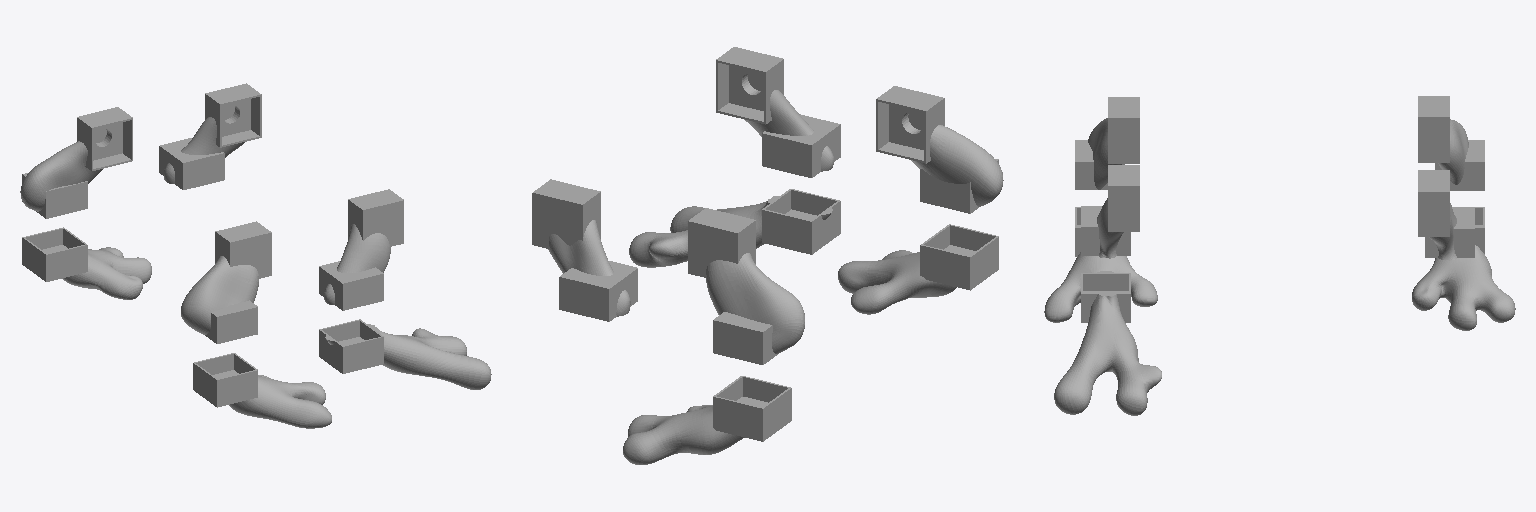
The robot description file, URDF, robot "FrogBot3_top-FrogBot3-y-0_bottom-FrogBot3-y-0":
<?xml version="1.0" ?>
<robot name="FrogBot3_top-FrogBot3-y-0_bottom-FrogBot3-y-0">

<material name="pla_5_percent_infill">
  <color rgba="0.700 0.700 0.700 1.000"/>
</material>

<link name="base_link">
  <inertial>
    <origin xyz="0 0 0" rpy="0 0 0"/>
    <mass value="1.5419899792307459"/>
    <inertia ixx="0.0054836076661745285" iyy="0.013703915460827342" izz="0.013742849788882953" ixy="5.961000823851627e-05" iyz="4.9944941207841843e-05" ixz="-0.0023657822822012154"/>
  </inertial>
  <visual>
    <origin xyz="0 0 0" rpy="0 0 0"/>
    <geometry>
      <mesh filename="simple_meshes/base_link.stl" scale="0.001 0.001 0.001"/>
    </geometry>
    <material name="pla_5_percent_infill"/>
  </visual>
  <collision>
    <origin xyz="0 0 0" rpy="0 0 0"/>
    <geometry>
      <mesh filename="simple_meshes/base_link.stl" scale="0.001 0.001 0.001"/>
    </geometry>
  </collision>
</link>

<link name="body_1_0_1">
  <inertial>
    <origin xyz="-0.065859 -0.113451 -0.001976" rpy="0 0 0"/>
    <mass value="0.03481210358836743"/>
    <inertia ixx="2.234723602697415e-05" iyy="3.6484254333627657e-05" izz="2.383058621994842e-05" ixy="2.6691672408313293e-06" iyz="2.465478568163421e-06" ixz="-1.0909064282904019e-05"/>
  </inertial>
  <visual>
    <origin xyz="-0.065859 -0.113451 -0.001976" rpy="0 0 0"/>
    <geometry>
      <mesh filename="simple_meshes/body_1_0_1.stl" scale="0.001 0.001 0.001"/>
    </geometry>
    <material name="pla_5_percent_infill"/>
  </visual>
  <collision>
    <origin xyz="-0.065859 -0.113451 -0.001976" rpy="0 0 0"/>
    <geometry>
      <mesh filename="simple_meshes/body_1_0_1.stl" scale="0.001 0.001 0.001"/>
    </geometry>
  </collision>
</link>

<link name="body_1_1_1">
  <inertial>
    <origin xyz="0.083929 -0.113451 -0.010696" rpy="0 0 0"/>
    <mass value="0.05168946143503558"/>
    <inertia ixx="3.3422674352278194e-05" iyy="6.498258946108346e-05" izz="4.677073796685409e-05" ixy="5.7564790331805175e-06" iyz="6.816011222987367e-06" ixz="-1.932469944822687e-05"/>
  </inertial>
  <visual>
    <origin xyz="0.083929 -0.113451 -0.010696" rpy="0 0 0"/>
    <geometry>
      <mesh filename="simple_meshes/body_1_1_1.stl" scale="0.001 0.001 0.001"/>
    </geometry>
    <material name="pla_5_percent_infill"/>
  </visual>
  <collision>
    <origin xyz="0.083929 -0.113451 -0.010696" rpy="0 0 0"/>
    <geometry>
      <mesh filename="simple_meshes/body_1_1_1.stl" scale="0.001 0.001 0.001"/>
    </geometry>
  </collision>
</link>

<link name="body_1_2_1">
  <inertial>
    <origin xyz="-0.060736 0.113451 -0.005366" rpy="0 0 0"/>
    <mass value="0.036808537610259116"/>
    <inertia ixx="2.510262141484855e-05" iyy="3.8597145432828916e-05" izz="2.4079621612448565e-05" ixy="-3.0640182412245537e-06" iyz="-3.7103297664395276e-06" ixz="-1.1646059100123392e-05"/>
  </inertial>
  <visual>
    <origin xyz="-0.060736 0.113451 -0.005366" rpy="0 0 0"/>
    <geometry>
      <mesh filename="simple_meshes/body_1_2_1.stl" scale="0.001 0.001 0.001"/>
    </geometry>
    <material name="pla_5_percent_infill"/>
  </visual>
  <collision>
    <origin xyz="-0.060736 0.113451 -0.005366" rpy="0 0 0"/>
    <geometry>
      <mesh filename="simple_meshes/body_1_2_1.stl" scale="0.001 0.001 0.001"/>
    </geometry>
  </collision>
</link>

<link name="body_1_3_1">
  <inertial>
    <origin xyz="0.093982 0.113451 -0.005431" rpy="0 0 0"/>
    <mass value="0.05072982004556852"/>
    <inertia ixx="2.9846049046357293e-05" iyy="5.400651795612981e-05" izz="3.9655979153227234e-05" ixy="-4.016612700297314e-06" iyz="-5.751694455235362e-06" ixz="-1.3946299575984413e-05"/>
  </inertial>
  <visual>
    <origin xyz="0.093982 0.113451 -0.005431" rpy="0 0 0"/>
    <geometry>
      <mesh filename="simple_meshes/body_1_3_1.stl" scale="0.001 0.001 0.001"/>
    </geometry>
    <material name="pla_5_percent_infill"/>
  </visual>
  <collision>
    <origin xyz="0.093982 0.113451 -0.005431" rpy="0 0 0"/>
    <geometry>
      <mesh filename="simple_meshes/body_1_3_1.stl" scale="0.001 0.001 0.001"/>
    </geometry>
  </collision>
</link>

<link name="body_2_0_1">
  <inertial>
    <origin xyz="-0.026166 -0.163707 0.082895" rpy="0 0 0"/>
    <mass value="0.07861579585624945"/>
    <inertia ixx="5.690804317683715e-05" iyy="0.00017167854267405346" izz="0.00018668273466018867" ixy="4.5101196067013835e-06" iyz="-2.5561902414611686e-06" ixz="4.731127778390002e-05"/>
  </inertial>
  <visual>
    <origin xyz="-0.026166 -0.163707 0.082895" rpy="0 0 0"/>
    <geometry>
      <mesh filename="simple_meshes/body_2_0_1.stl" scale="0.001 0.001 0.001"/>
    </geometry>
    <material name="pla_5_percent_infill"/>
  </visual>
  <collision>
    <origin xyz="-0.026166 -0.163707 0.082895" rpy="0 0 0"/>
    <geometry>
      <mesh filename="simple_meshes/body_2_0_1.stl" scale="0.001 0.001 0.001"/>
    </geometry>
  </collision>
</link>

<link name="body_2_1_1">
  <inertial>
    <origin xyz="0.127747 -0.173737 0.082895" rpy="0 0 0"/>
    <mass value="0.06819028038756199"/>
    <inertia ixx="3.9763277259106684e-05" iyy="8.219825476943701e-05" izz="9.423796381057047e-05" ixy="-8.378850528368295e-06" iyz="2.1393524929054844e-06" ixz="2.3641450377536832e-05"/>
  </inertial>
  <visual>
    <origin xyz="0.127747 -0.173737 0.082895" rpy="0 0 0"/>
    <geometry>
      <mesh filename="simple_meshes/body_2_1_1.stl" scale="0.001 0.001 0.001"/>
    </geometry>
    <material name="pla_5_percent_infill"/>
  </visual>
  <collision>
    <origin xyz="0.127747 -0.173737 0.082895" rpy="0 0 0"/>
    <geometry>
      <mesh filename="simple_meshes/body_2_1_1.stl" scale="0.001 0.001 0.001"/>
    </geometry>
  </collision>
</link>

<link name="body_2_2_1">
  <inertial>
    <origin xyz="-0.021708 0.166525 0.082895" rpy="0 0 0"/>
    <mass value="0.0786648198760425"/>
    <inertia ixx="5.6312853208418615e-05" iyy="0.00016771066573841161" izz="0.00018258887505992732" ixy="1.178071111930263e-06" iyz="-1.0767943892512396e-06" ixz="4.612384517828144e-05"/>
  </inertial>
  <visual>
    <origin xyz="-0.021708 0.166525 0.082895" rpy="0 0 0"/>
    <geometry>
      <mesh filename="simple_meshes/body_2_2_1.stl" scale="0.001 0.001 0.001"/>
    </geometry>
    <material name="pla_5_percent_infill"/>
  </visual>
  <collision>
    <origin xyz="-0.021708 0.166525 0.082895" rpy="0 0 0"/>
    <geometry>
      <mesh filename="simple_meshes/body_2_2_1.stl" scale="0.001 0.001 0.001"/>
    </geometry>
  </collision>
</link>

<link name="body_2_3_1">
  <inertial>
    <origin xyz="0.128136 0.171985 0.082895" rpy="0 0 0"/>
    <mass value="0.06598864943063291"/>
    <inertia ixx="4.236894932505182e-05" iyy="7.782240010849426e-05" izz="9.408845542421135e-05" ixy="6.614906439177896e-06" iyz="-3.3620902689663733e-06" ixz="2.172744337190411e-05"/>
  </inertial>
  <visual>
    <origin xyz="0.128136 0.171985 0.082895" rpy="0 0 0"/>
    <geometry>
      <mesh filename="simple_meshes/body_2_3_1.stl" scale="0.001 0.001 0.001"/>
    </geometry>
    <material name="pla_5_percent_infill"/>
  </visual>
  <collision>
    <origin xyz="0.128136 0.171985 0.082895" rpy="0 0 0"/>
    <geometry>
      <mesh filename="simple_meshes/body_2_3_1.stl" scale="0.001 0.001 0.001"/>
    </geometry>
  </collision>
</link>

<joint name="joint_1_0" type="revolute">
  <origin xyz="0.065859 0.113451 0.001976" rpy="0 0 0"/>
  <parent link="base_link"/>
  <child link="body_1_0_1"/>
  <axis xyz="0.0 0.0 -1.0"/>
  <limit upper="1.2" lower="-1.2" effort="3.8" velocity="5.4"/>
</joint>
<transmission name="joint_1_0_tran">
  <type>transmission_interface/SimpleTransmission</type>
  <joint name="joint_1_0">
    <hardwareInterface>PositionJointInterface</hardwareInterface>
  </joint>
  <actuator name="joint_1_0_actr">
    <hardwareInterface>PositionJointInterface</hardwareInterface>
    <mechanicalReduction>1</mechanicalReduction>
  </actuator>
</transmission>

<joint name="joint_1_1" type="revolute">
  <origin xyz="-0.083929 0.113451 0.010696" rpy="0 0 0"/>
  <parent link="base_link"/>
  <child link="body_1_1_1"/>
  <axis xyz="0.0 0.0 -1.0"/>
  <limit upper="1.2" lower="-1.2" effort="3.8" velocity="5.4"/>
</joint>
<transmission name="joint_1_1_tran">
  <type>transmission_interface/SimpleTransmission</type>
  <joint name="joint_1_1">
    <hardwareInterface>PositionJointInterface</hardwareInterface>
  </joint>
  <actuator name="joint_1_1_actr">
    <hardwareInterface>PositionJointInterface</hardwareInterface>
    <mechanicalReduction>1</mechanicalReduction>
  </actuator>
</transmission>

<joint name="joint_1_2" type="revolute">
  <origin xyz="0.060736 -0.113451 0.005366" rpy="0 0 0"/>
  <parent link="base_link"/>
  <child link="body_1_2_1"/>
  <axis xyz="0.0 0.0 -1.0"/>
  <limit upper="1.2" lower="-1.2" effort="3.8" velocity="5.4"/>
</joint>
<transmission name="joint_1_2_tran">
  <type>transmission_interface/SimpleTransmission</type>
  <joint name="joint_1_2">
    <hardwareInterface>PositionJointInterface</hardwareInterface>
  </joint>
  <actuator name="joint_1_2_actr">
    <hardwareInterface>PositionJointInterface</hardwareInterface>
    <mechanicalReduction>1</mechanicalReduction>
  </actuator>
</transmission>

<joint name="joint_1_3" type="revolute">
  <origin xyz="-0.093982 -0.113451 0.005431" rpy="0 0 0"/>
  <parent link="base_link"/>
  <child link="body_1_3_1"/>
  <axis xyz="0.0 0.0 -1.0"/>
  <limit upper="1.2" lower="-1.2" effort="3.8" velocity="5.4"/>
</joint>
<transmission name="joint_1_3_tran">
  <type>transmission_interface/SimpleTransmission</type>
  <joint name="joint_1_3">
    <hardwareInterface>PositionJointInterface</hardwareInterface>
  </joint>
  <actuator name="joint_1_3_actr">
    <hardwareInterface>PositionJointInterface</hardwareInterface>
    <mechanicalReduction>1</mechanicalReduction>
  </actuator>
</transmission>

<joint name="joint_2_0" type="revolute">
  <origin xyz="-0.039693 0.050256 -0.084871" rpy="0 0 0"/>
  <parent link="body_1_0_1"/>
  <child link="body_2_0_1"/>
  <axis xyz="0.0 1.0 0.0"/>
  <limit upper="1.2" lower="-1.2" effort="3.8" velocity="5.4"/>
</joint>
<transmission name="joint_2_0_tran">
  <type>transmission_interface/SimpleTransmission</type>
  <joint name="joint_2_0">
    <hardwareInterface>PositionJointInterface</hardwareInterface>
  </joint>
  <actuator name="joint_2_0_actr">
    <hardwareInterface>PositionJointInterface</hardwareInterface>
    <mechanicalReduction>1</mechanicalReduction>
  </actuator>
</transmission>

<joint name="joint_2_1" type="revolute">
  <origin xyz="-0.043818 0.060286 -0.093591" rpy="0 0 0"/>
  <parent link="body_1_1_1"/>
  <child link="body_2_1_1"/>
  <axis xyz="0.0 1.0 0.0"/>
  <limit upper="1.2" lower="-1.2" effort="3.8" velocity="5.4"/>
</joint>
<transmission name="joint_2_1_tran">
  <type>transmission_interface/SimpleTransmission</type>
  <joint name="joint_2_1">
    <hardwareInterface>PositionJointInterface</hardwareInterface>
  </joint>
  <actuator name="joint_2_1_actr">
    <hardwareInterface>PositionJointInterface</hardwareInterface>
    <mechanicalReduction>1</mechanicalReduction>
  </actuator>
</transmission>

<joint name="joint_2_2" type="revolute">
  <origin xyz="-0.039028 -0.053074 -0.088261" rpy="0 0 0"/>
  <parent link="body_1_2_1"/>
  <child link="body_2_2_1"/>
  <axis xyz="0.0 1.0 0.0"/>
  <limit upper="1.2" lower="-1.2" effort="3.8" velocity="5.4"/>
</joint>
<transmission name="joint_2_2_tran">
  <type>transmission_interface/SimpleTransmission</type>
  <joint name="joint_2_2">
    <hardwareInterface>PositionJointInterface</hardwareInterface>
  </joint>
  <actuator name="joint_2_2_actr">
    <hardwareInterface>PositionJointInterface</hardwareInterface>
    <mechanicalReduction>1</mechanicalReduction>
  </actuator>
</transmission>

<joint name="joint_2_3" type="revolute">
  <origin xyz="-0.034154 -0.058534 -0.088326" rpy="0 0 0"/>
  <parent link="body_1_3_1"/>
  <child link="body_2_3_1"/>
  <axis xyz="0.0 1.0 0.0"/>
  <limit upper="1.2" lower="-1.2" effort="3.8" velocity="5.4"/>
</joint>
<transmission name="joint_2_3_tran">
  <type>transmission_interface/SimpleTransmission</type>
  <joint name="joint_2_3">
    <hardwareInterface>PositionJointInterface</hardwareInterface>
  </joint>
  <actuator name="joint_2_3_actr">
    <hardwareInterface>PositionJointInterface</hardwareInterface>
    <mechanicalReduction>1</mechanicalReduction>
  </actuator>
</transmission>

</robot>

--- Render facts (derived) ---
The picture shows the robot from 3 angles, left to right: view 1: azimuth 30°, elevation 25°; view 2: azimuth 150°, elevation 25°; view 3: azimuth 270°, elevation 25°; orthographic projection.
Robot: FrogBot3_top-FrogBot3-y-0_bottom-FrogBot3-y-0 — 9 links, 8 joints (8 revolute); root link base_link; default pose: every joint at zero.
Visible links, largest first — view 1: body_1_3_1, body_2_2_1, body_1_1_1, body_1_2_1, body_1_0_1, body_2_3_1, body_2_1_1; view 2: body_1_1_1, body_1_3_1, body_1_0_1, body_1_2_1, body_2_1_1, body_2_3_1, body_2_2_1; view 3: body_2_2_1, body_2_1_1, body_1_1_1, body_1_2_1, body_1_3_1, body_1_0_1, body_2_3_1.
Boxes of the visible links, <box> form: body_1_3_1: <box>181,221,271,343</box>; body_2_2_1: <box>319,319,491,389</box>; body_1_1_1: <box>20,107,132,218</box>; body_1_2_1: <box>319,189,403,310</box>; body_1_0_1: <box>159,83,261,189</box>; body_2_3_1: <box>193,353,331,428</box>; body_2_1_1: <box>22,227,151,299</box>; body_1_1_1: <box>688,208,804,364</box>; body_1_3_1: <box>876,86,1003,213</box>; body_1_0_1: <box>532,179,637,321</box>; body_1_2_1: <box>716,47,840,177</box>; body_2_1_1: <box>623,376,791,464</box>; body_2_3_1: <box>838,224,998,314</box>; body_2_2_1: <box>629,189,840,267</box>; body_2_2_1: <box>1054,271,1161,415</box>; body_2_1_1: <box>1412,207,1515,330</box>; body_1_1_1: <box>1418,96,1484,190</box>; body_1_2_1: <box>1081,165,1139,258</box>; body_1_3_1: <box>1075,97,1139,189</box>; body_1_0_1: <box>1418,170,1474,260</box>; body_2_3_1: <box>1044,207,1157,322</box>.
Size in the robot's own frame: 0.3419 by 0.4523 by 0.2162 metres.
Meshes: 9 distinct files referenced, 7 mesh visuals loaded (7 binary STL); not drawn: 2 (reference not matched to a file when rendering).